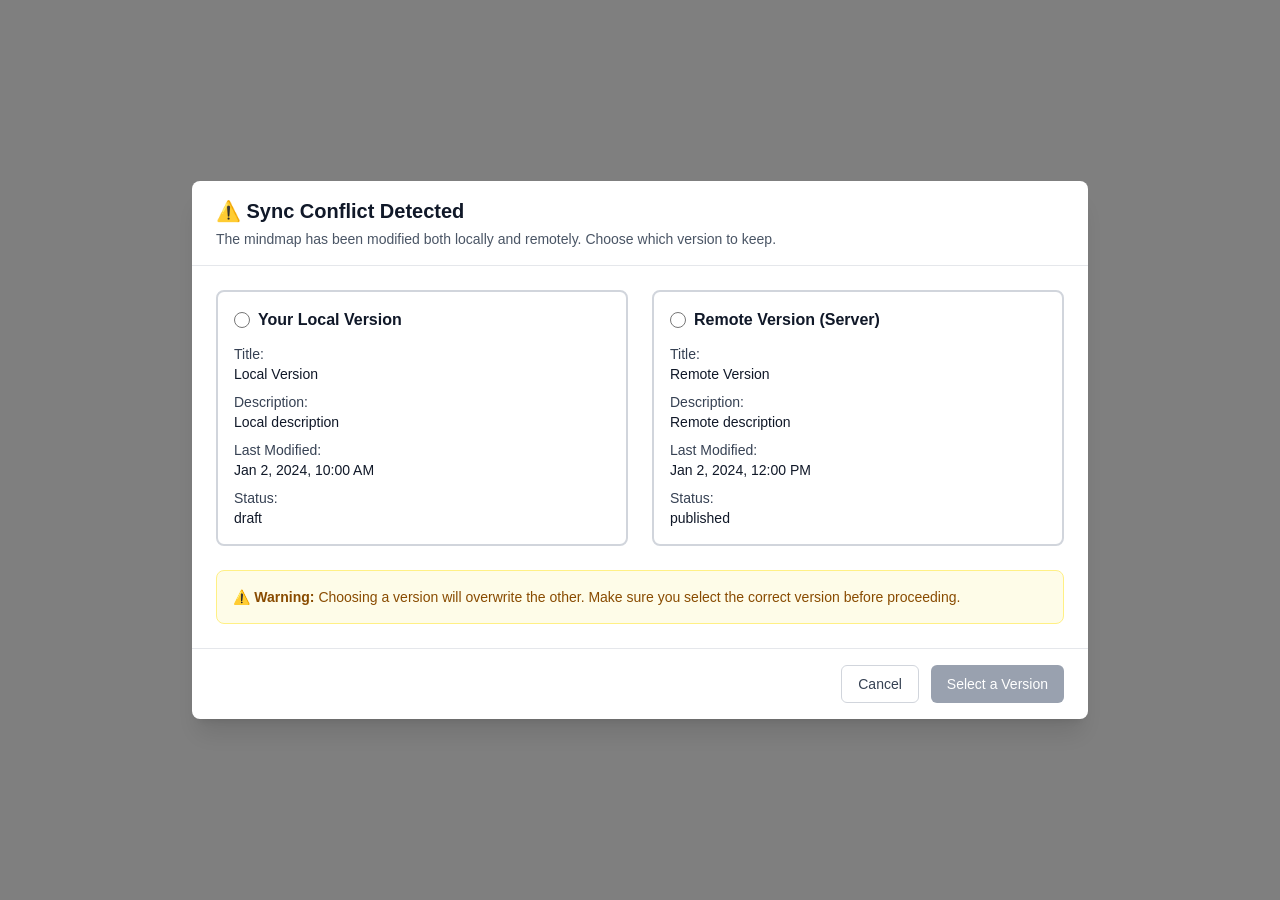
Test: ConflictResolution › should allow selecting local version
Step 1. Click the radio button next to "Your Local Version" → (242,320), box 234,312 -> 250,328
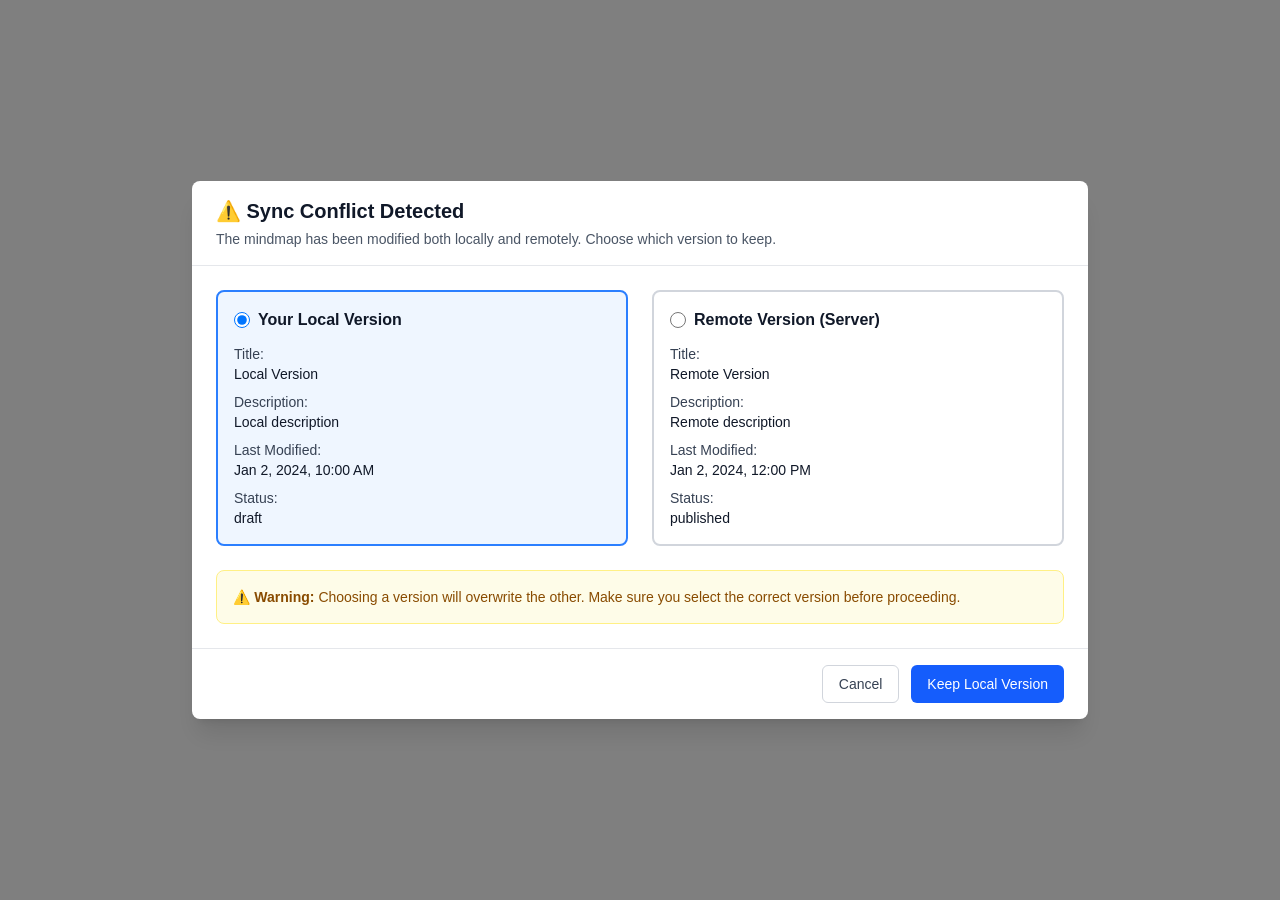
Now the radio button next to "Your Local Version" is checked, box 234,312 -> 250,328
Now the button "Keep Local Version" is shown, box 911,665 -> 1064,703
